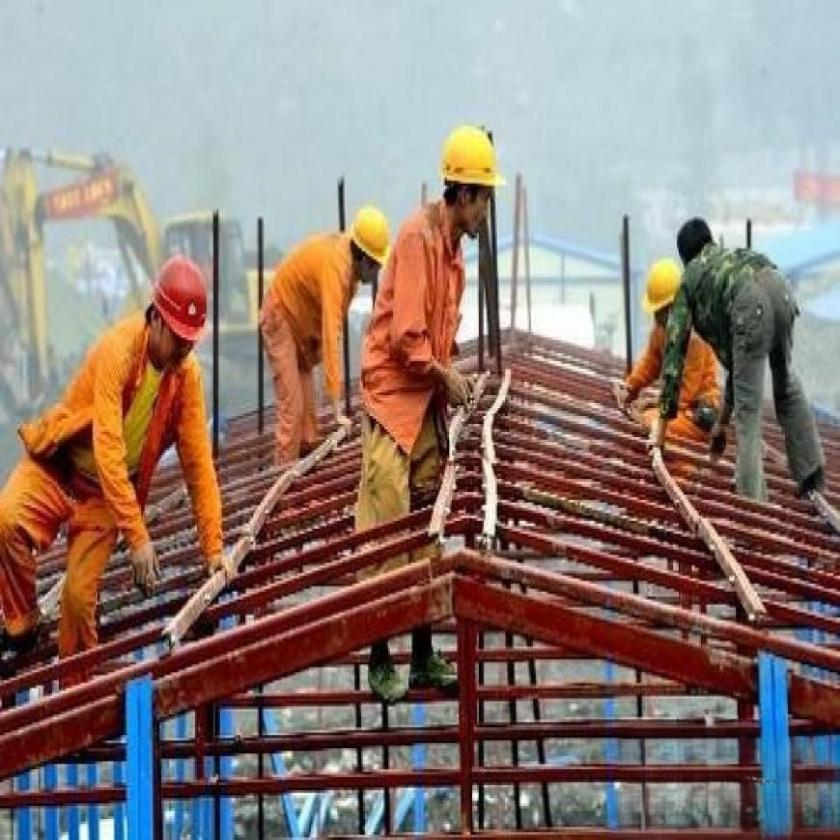Con_casco: (433, 109, 504, 242), (140, 250, 208, 373), (344, 200, 392, 294)
